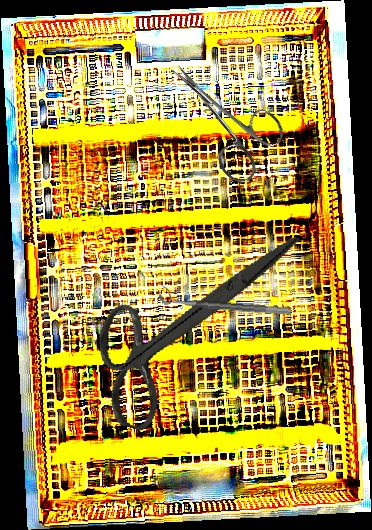Fixation Ring: (158, 285, 293, 316)
Iris Scissors: (73, 188, 303, 461), (145, 40, 295, 190)
